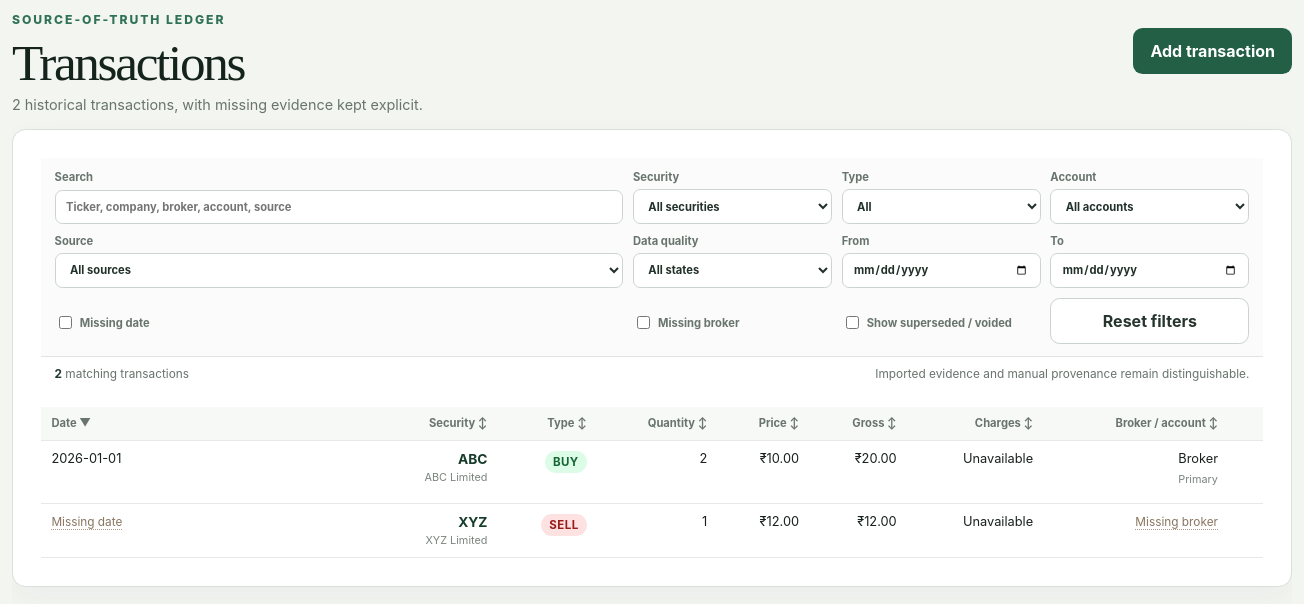
Test: TransactionsPage › renders the ledger and filters missing-date evidence
expect the heading "Transactions" is shown: met, box [12, 34, 244, 91]
expect the text "ABC Limited" is shown: met, box [424, 470, 488, 484]
What coordinates should you click on to do the following:
click the checkbox labelled "Missing date"
I would click on:
 (65, 323)
Its box is [59, 316, 72, 329].
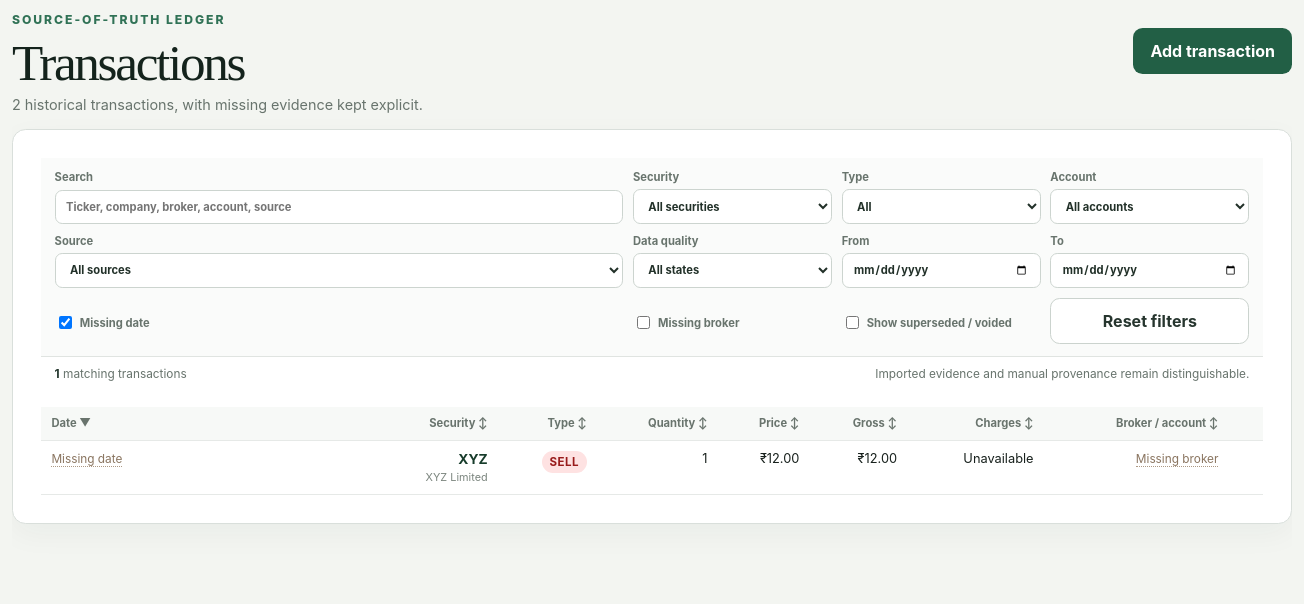
expect the text "ABC Limited" is gone: met
expect the text "Missing date" is shown 2 times: met, box [80, 316, 150, 330]; [51, 452, 122, 467]
